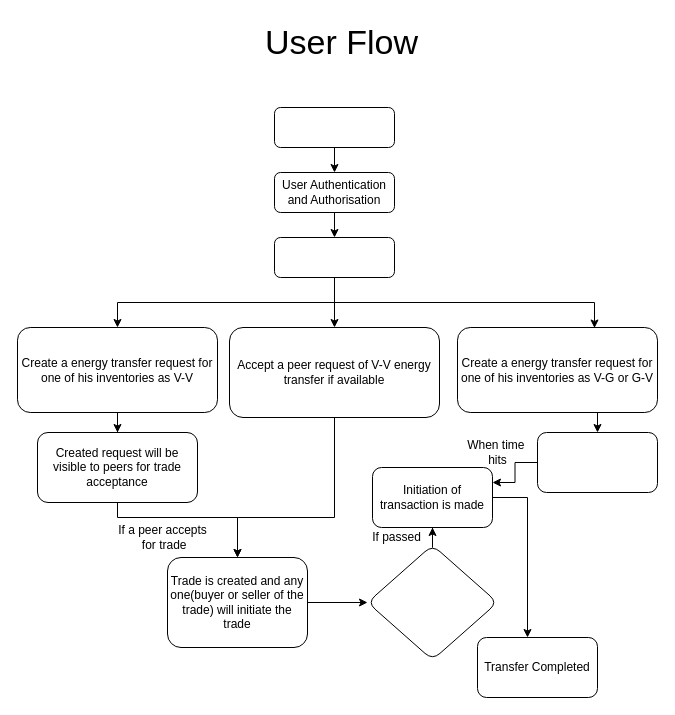
Some shapes in this 675 by 715 pixel diagram are drawn without their labels. Each missing label, with the box of its shape:
Add car inventory to user profile: (274, 236, 394, 278)
pre-check of users balances is made: (366, 544, 498, 660)
Schedule a cron job for its initiation: (536, 432, 658, 492)
User Creation: (274, 106, 394, 148)
